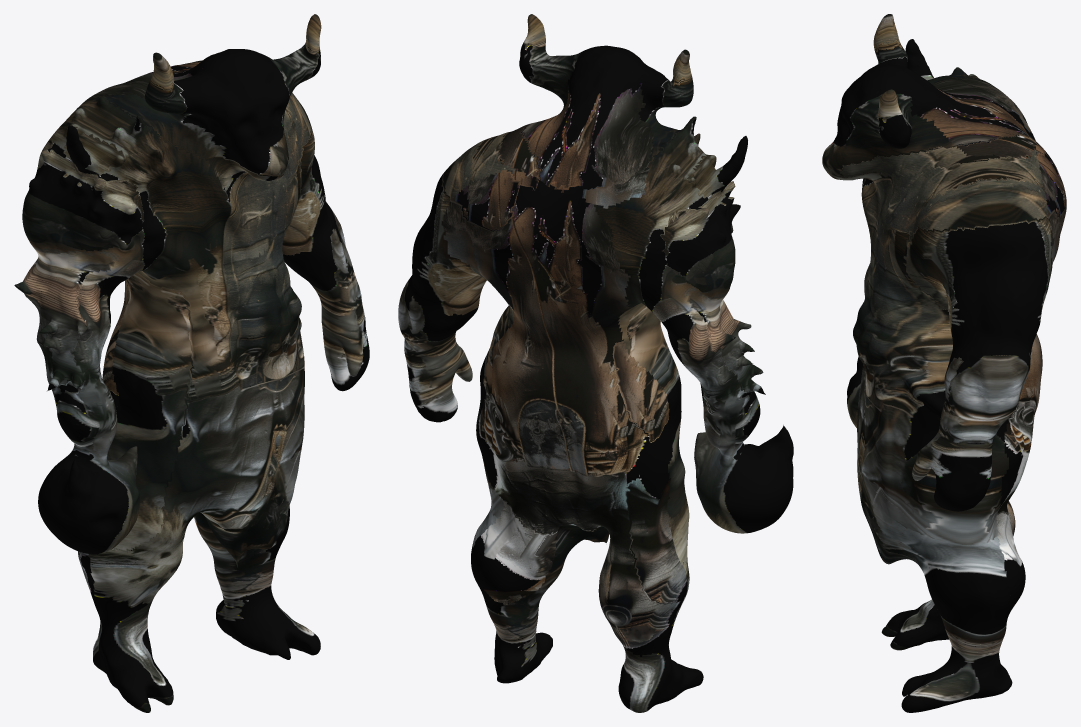
File: минотавр5 (1).gltf
3 renders of one model, left to right at view 1: azimuth 30°, elevation 25°; view 2: azimuth 150°, elevation 25°; view 3: azimuth 270°, elevation 25°, orthographic. The views are drawn at different scales.
Parts seen in each view (by area): view 1: Mesh_0_001.002; view 2: Mesh_0_001.002; view 3: Mesh_0_001.002.
Part boxes in pixels (x1,y1,x2,y2): Mesh_0_001.002: (14, 14, 369, 712); Mesh_0_001.002: (398, 14, 793, 712); Mesh_0_001.002: (822, 14, 1066, 712).
Bounding box in the file's own units: 0.773 × 1.38 × 0.4867.
3 materials, 3 textured.
